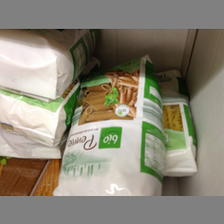pasta: (54, 53, 162, 195), (157, 66, 197, 176)
